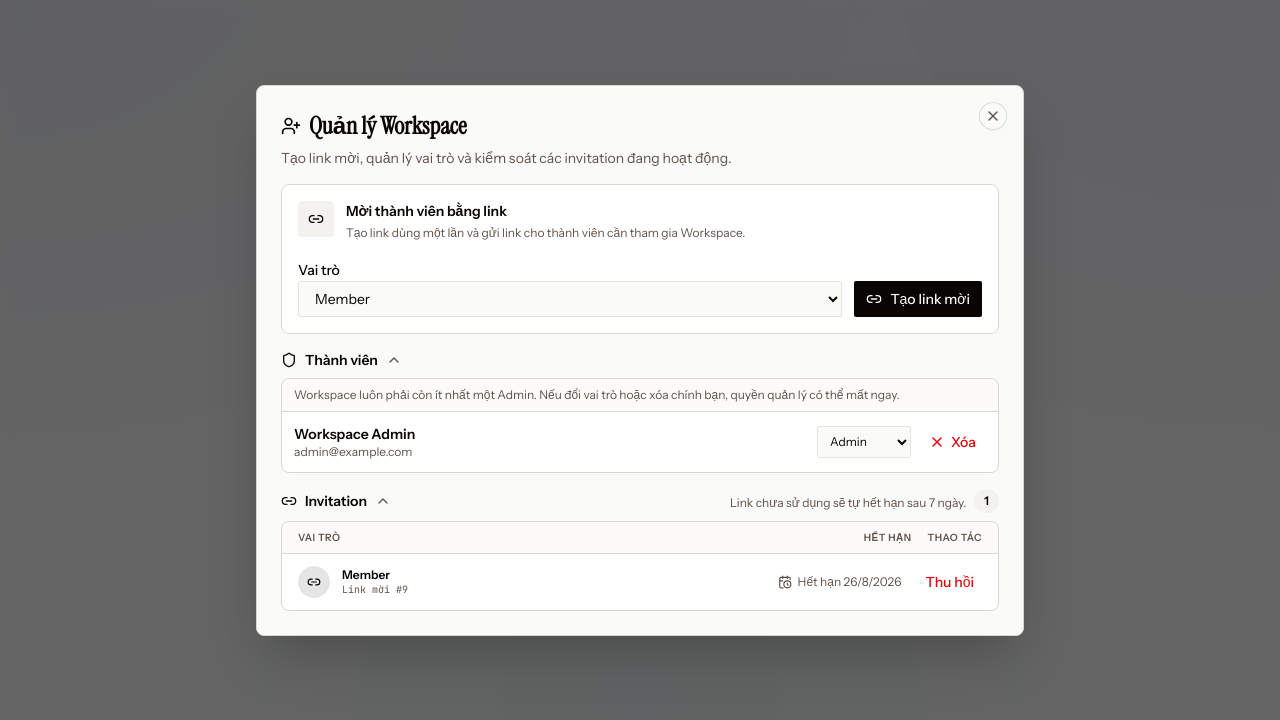
Test: WorkspaceManagementModal › can collapse and expand members and invitations independently
Expected: the text "Link mời #9" is shown, [342,583,408,596]
Click the button "Thành viên" at (342, 360), box [281,350,402,370]
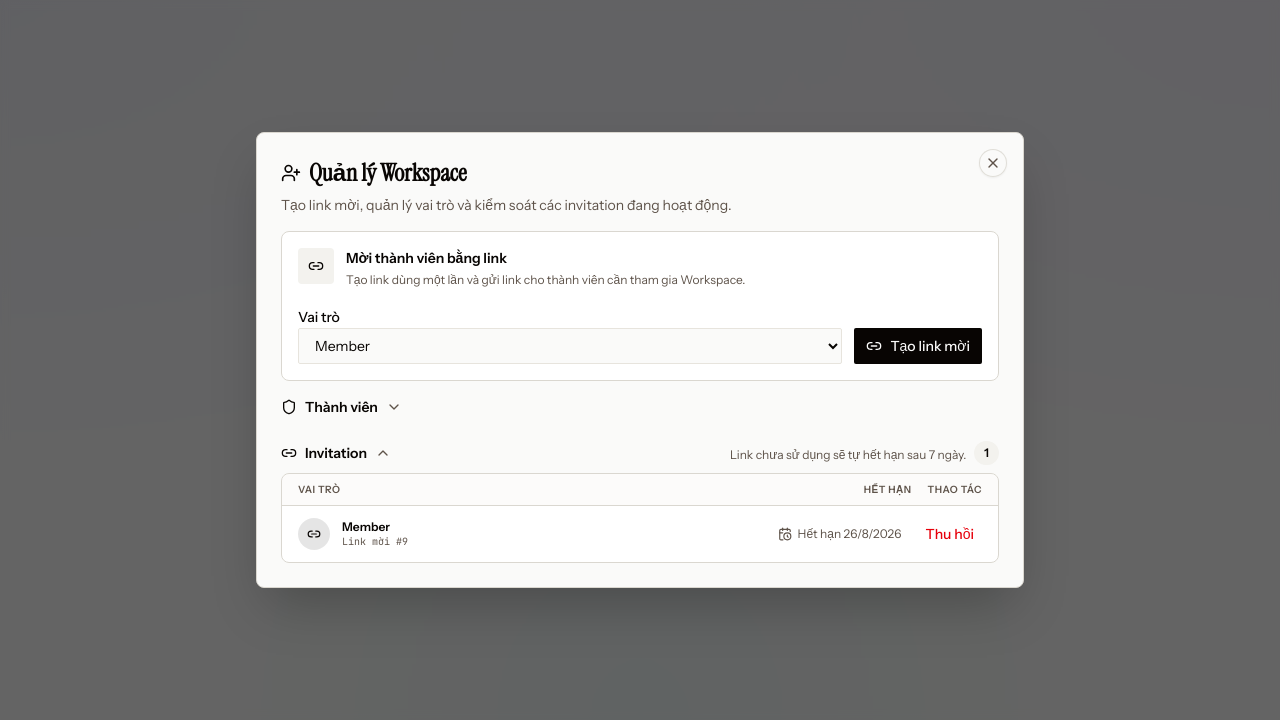
Click the button "Invitation" at (336, 453), box [281,443,391,463]
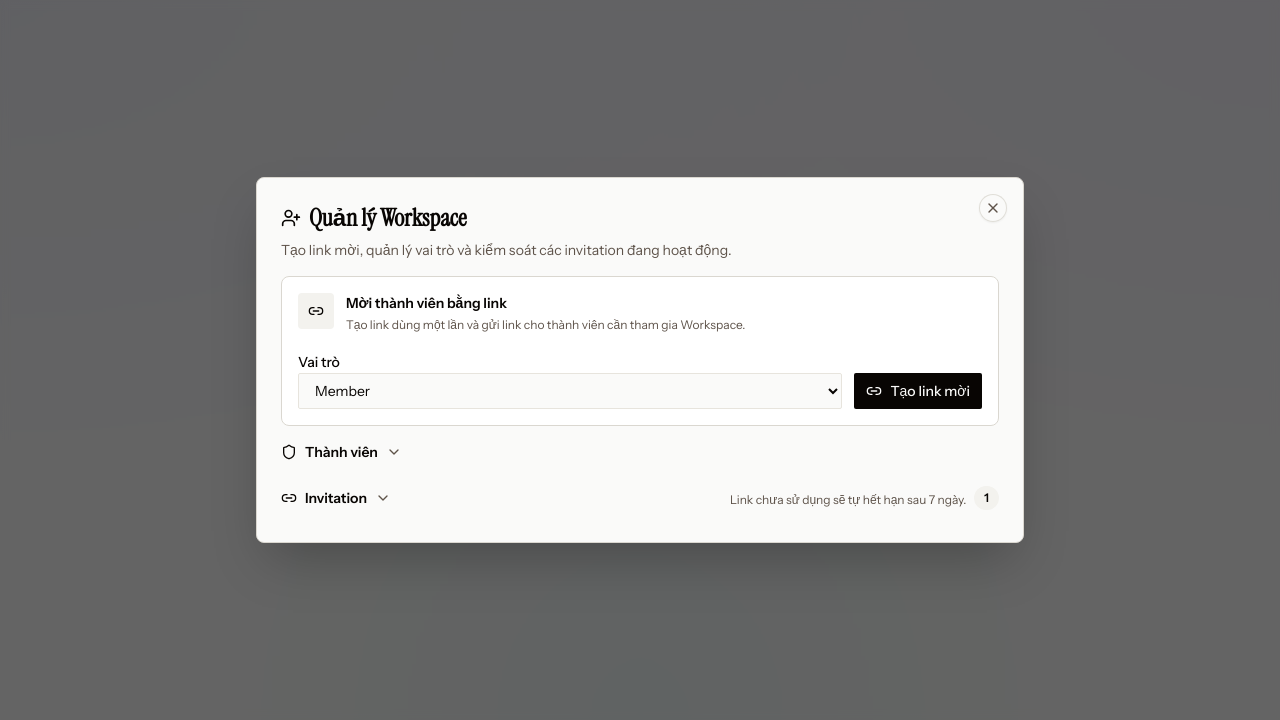
Result: the text "Link mời #9" is gone
Click the button "Thành viên" at (342, 452), box [281,442,402,462]
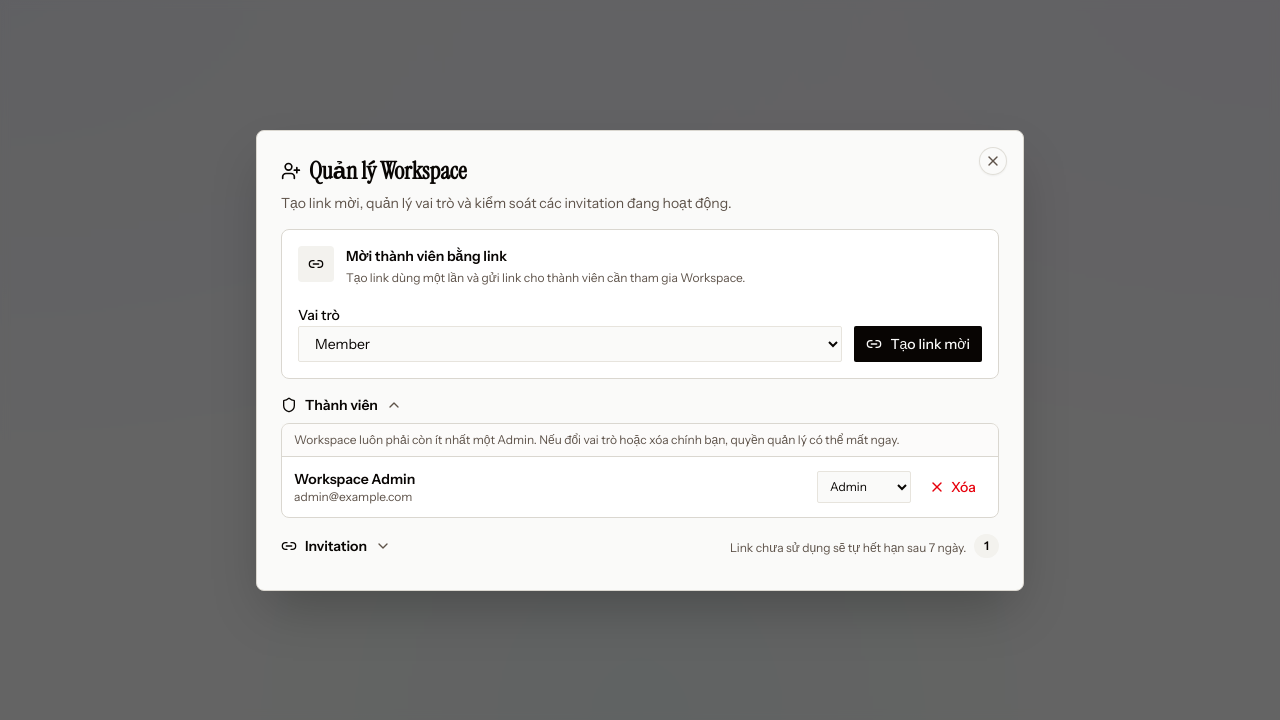
Result: the text "admin@example.com" is shown at [294,488,415,504]
Click the button "Invitation" at (336, 546), box [281,536,391,556]
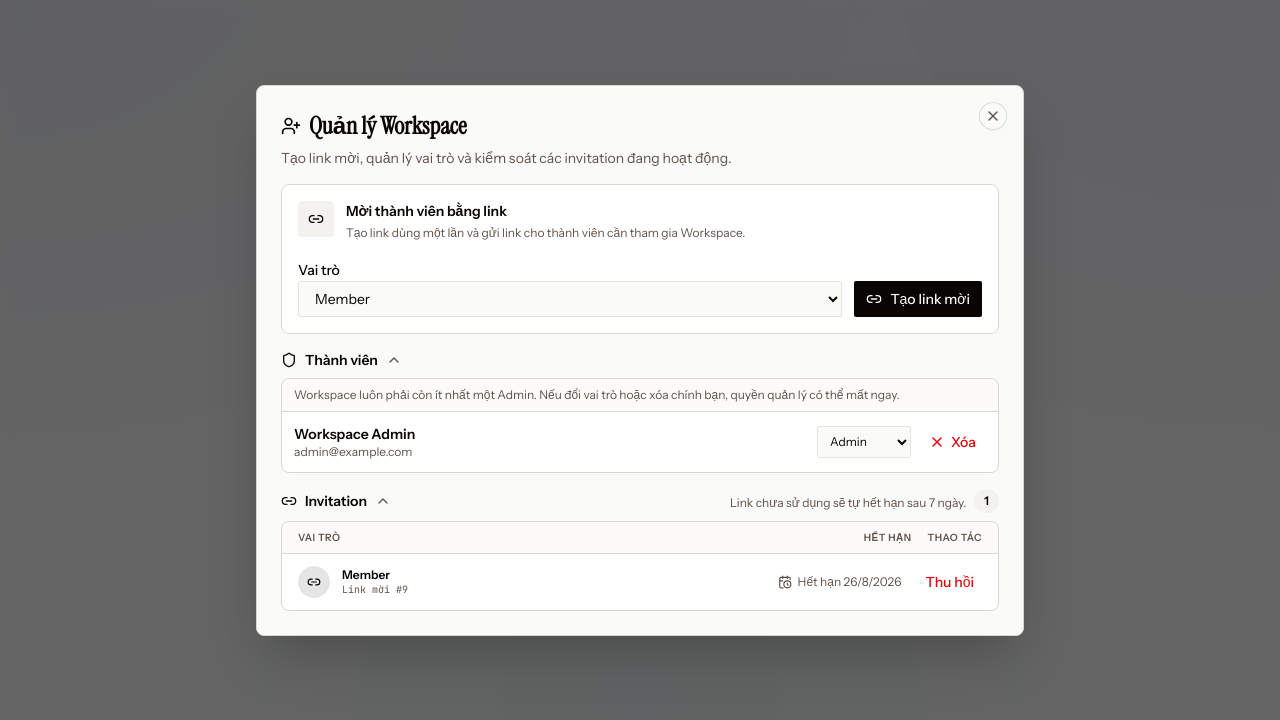
Result: the text "Link mời #9" is shown at [342,583,408,596]
